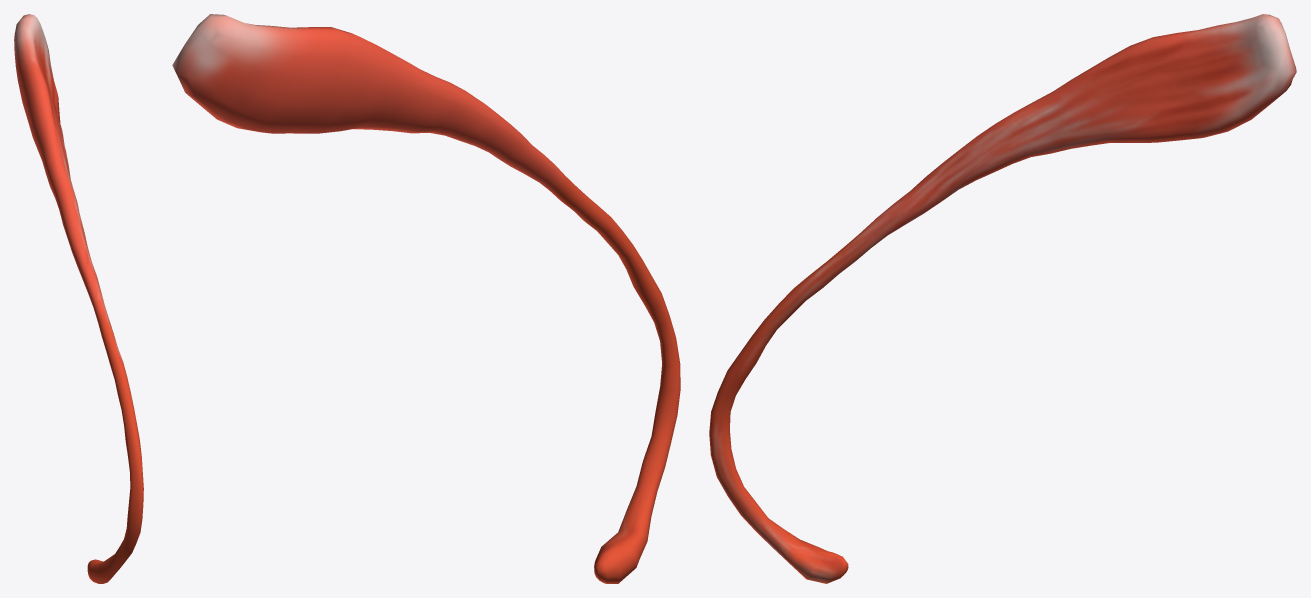
The model's file is Levator Labii.glb.
The picture shows the model from 3 angles, left to right: view 1: azimuth 30°, elevation 25°; view 2: azimuth 150°, elevation 25°; view 3: azimuth 270°, elevation 25°; orthographic projection. The views are drawn at different scales.
Visible parts, largest first — view 1: Levator Labii.glb; view 2: Levator Labii.glb; view 3: Levator Labii.glb.
Part boxes in pixels (left/top/right/bottom): Levator Labii.glb: left=14, top=14, right=143, bottom=583; Levator Labii.glb: left=172, top=14, right=680, bottom=583; Levator Labii.glb: left=709, top=14, right=1296, bottom=583.
Size of the model in its own units: 0.0789 by 0.2822 by 0.2399.
Materials: 1 (1 with a texture image).
